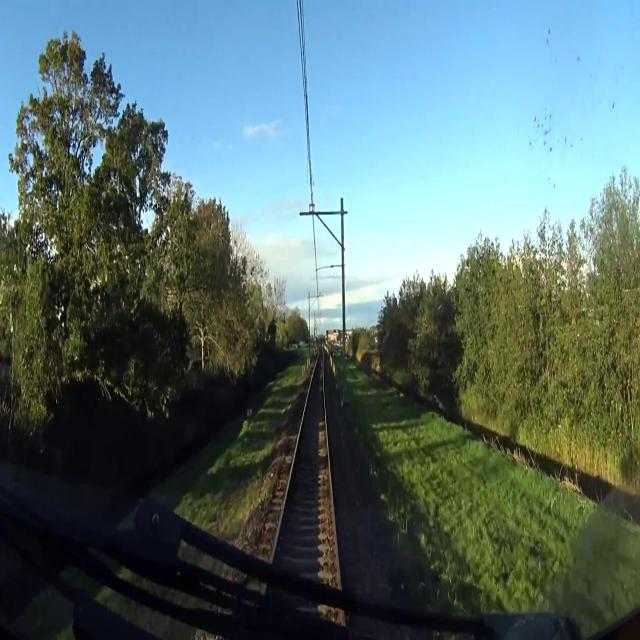rail-track: (275, 350, 337, 584)
